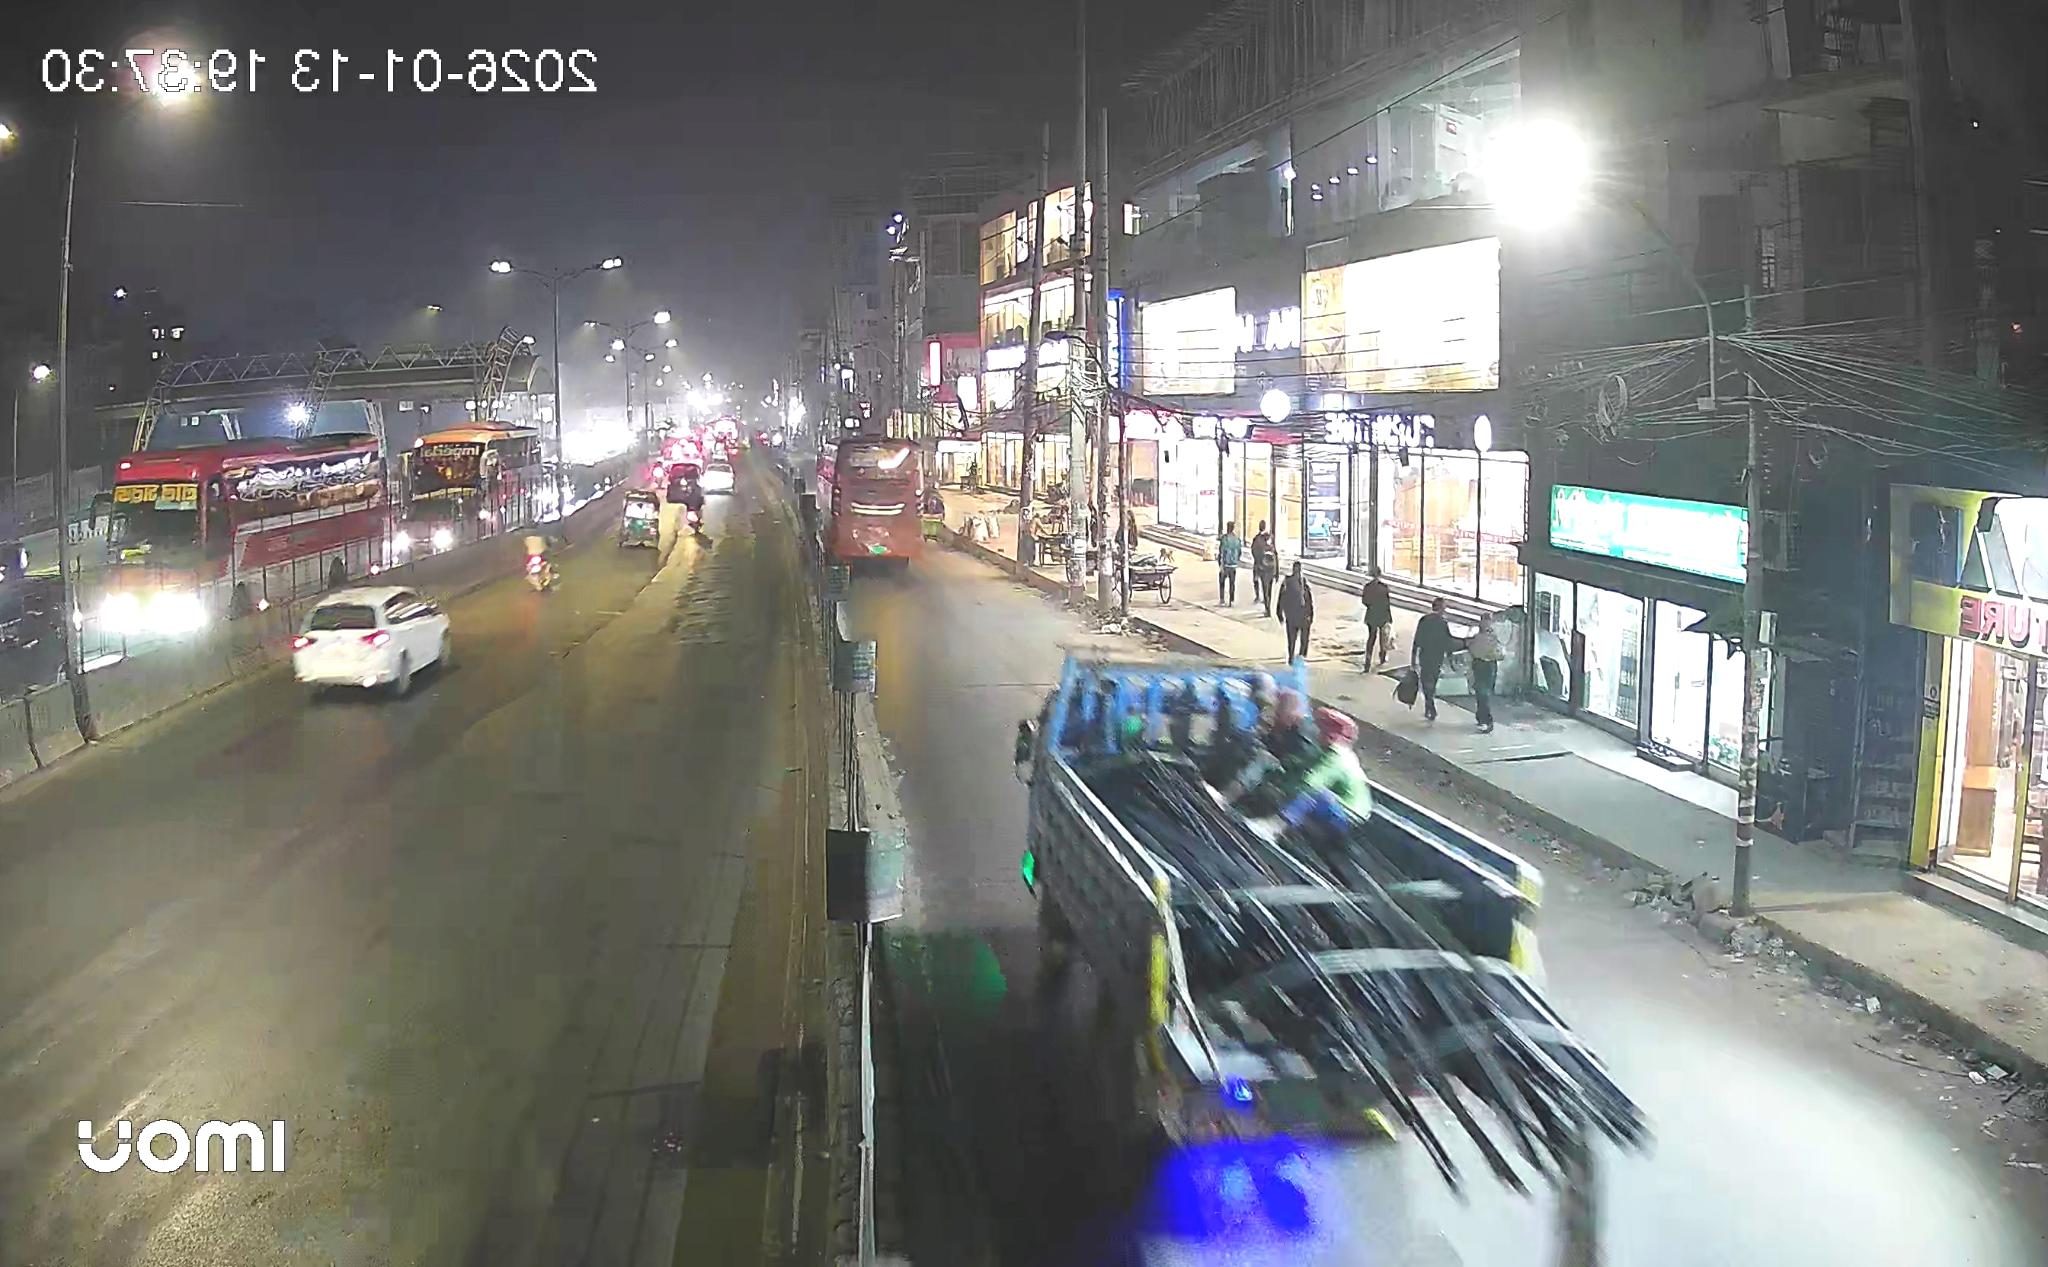Bus: (819, 437, 926, 569)
CNG-Tempo: (619, 489, 660, 547)
Private-Sedan Car: (293, 585, 453, 698)
Truck: (1015, 655, 1644, 1189)
